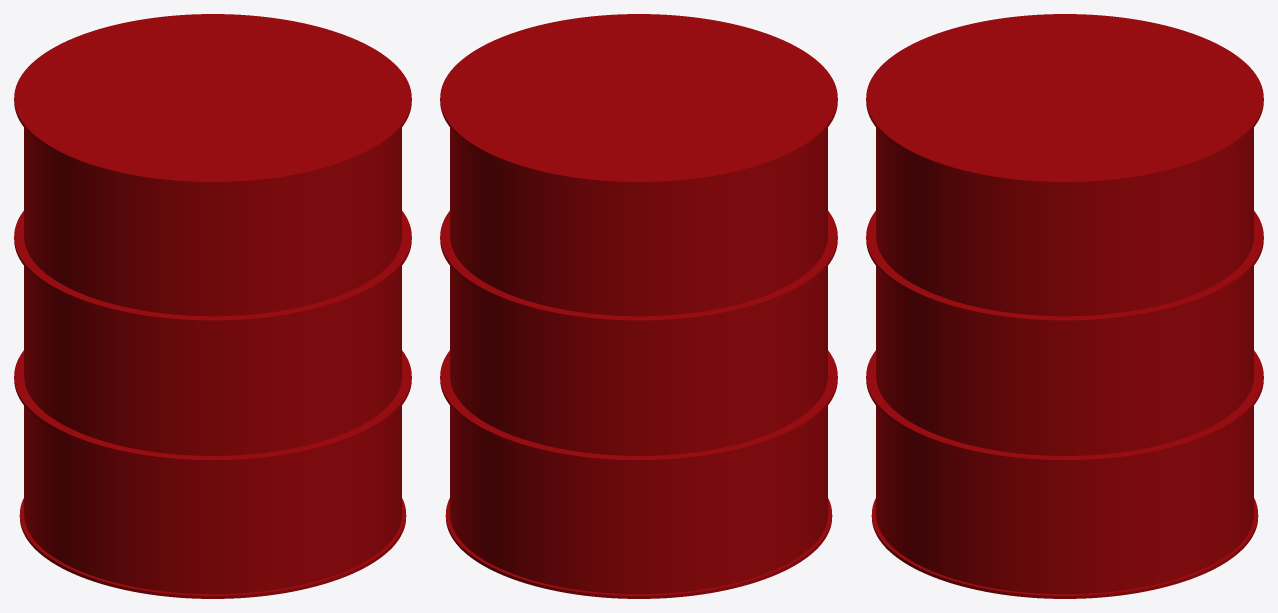
Rendered from barrel.fbx.
3 renders of one model, left to right at view 1: azimuth 30°, elevation 25°; view 2: azimuth 150°, elevation 25°; view 3: azimuth 270°, elevation 25°, orthographic.
Parts seen in each view (by area): view 1: Cylinder; view 2: Cylinder; view 3: Cylinder.
Part boxes in pixels (x1,y1,x2,y2): Cylinder: (14, 14, 411, 598); Cylinder: (440, 14, 837, 598); Cylinder: (866, 14, 1263, 598).
Bounding box in the file's own units: 211 × 245 × 211.
